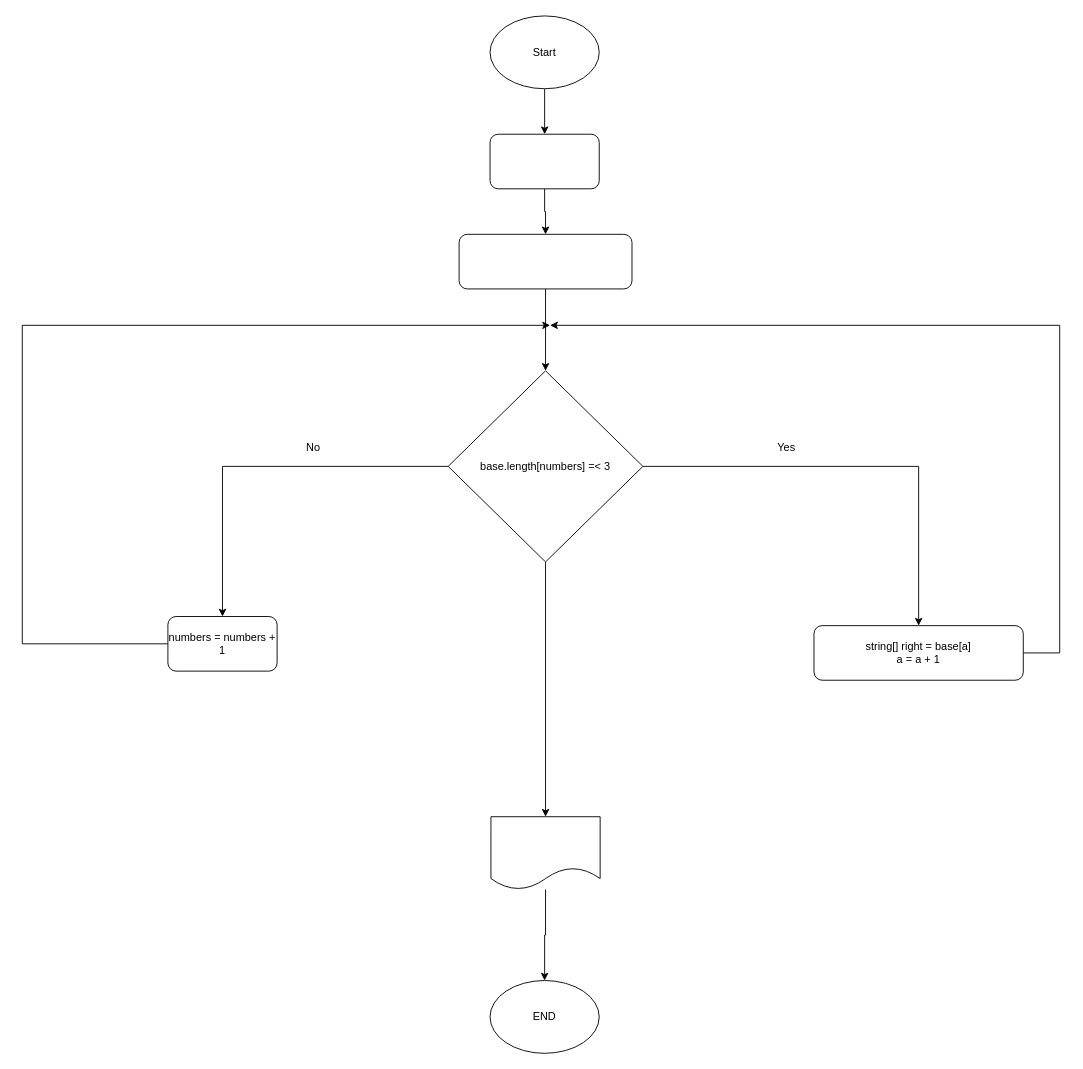
Some shapes in this 1083 by 1069 pixel diagram are drawn without their labels. Each missing label, with the centre of its shape:
numbers = 0 rightmass = 0 a = 0: pixel 544 161
print (right[]): pixel 545 853
string[] base = { "Tomas", "Sam", "Bob" };: pixel 545 261
